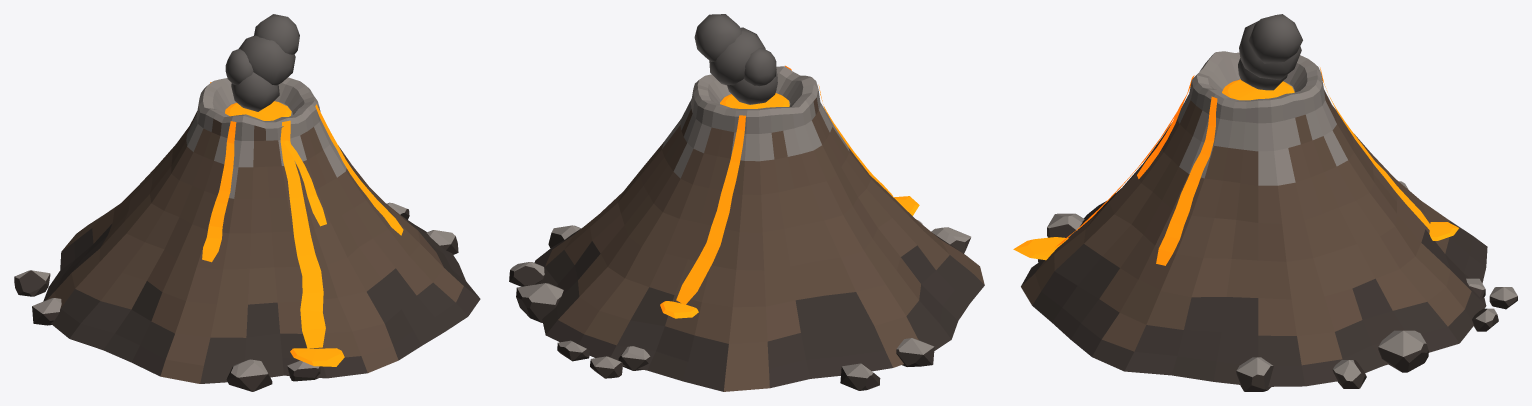
Rendered from mini_volcano.glb.
3 renders of one model, left to right at view 1: azimuth 30°, elevation 25°; view 2: azimuth 150°, elevation 25°; view 3: azimuth 270°, elevation 25°, orthographic. The views are drawn at different scales.
Parts seen in each view (by area): view 1: mini_volcano; view 2: mini_volcano; view 3: mini_volcano.
Boxes of the visible parts, <box> form: mini_volcano: <box>14,14,480,391</box>; mini_volcano: <box>509,14,984,391</box>; mini_volcano: <box>1013,14,1517,391</box>.
Size of the model in its own units: 23.21 by 14.99 by 23.81.
